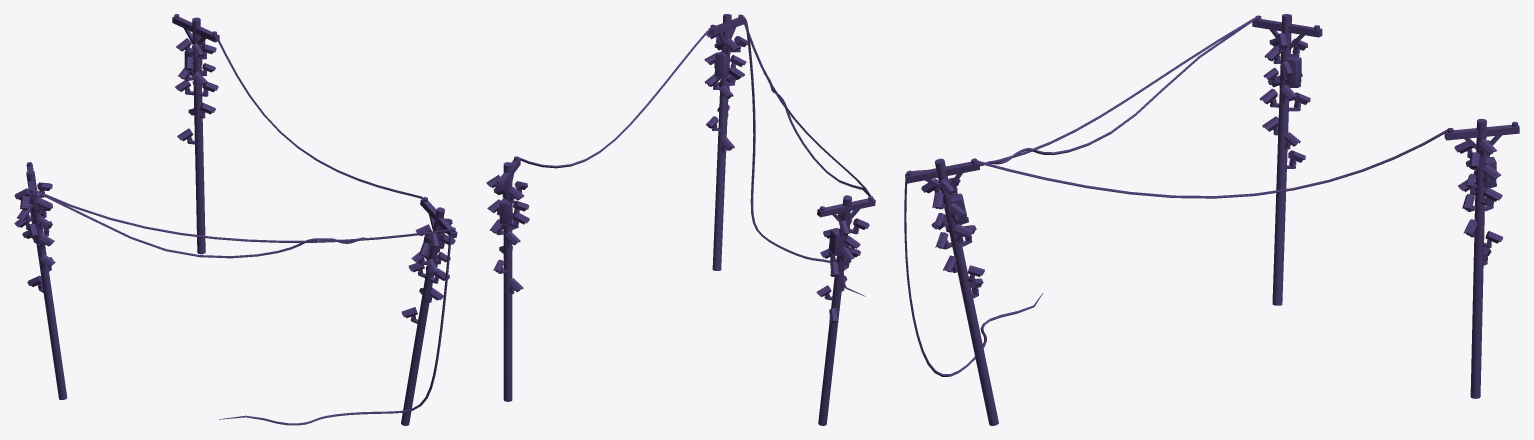
File: SM_telephonePole.fbx
3 views of the same model, side by side, from view 1: azimuth 30°, elevation 25°; view 2: azimuth 150°, elevation 25°; view 3: azimuth 270°, elevation 25° (orthographic). The views are drawn at different scales.
Visible parts, largest first — view 1: SM_telephonePole; view 2: SM_telephonePole; view 3: SM_telephonePole.
Boxes of the visible parts, box(x1,y1,x2,y2) form: SM_telephonePole: box(14, 14, 457, 425); SM_telephonePole: box(486, 14, 875, 425); SM_telephonePole: box(904, 14, 1519, 425).
Size of the model in its own units: 13.68 by 11.62 by 20.84.
